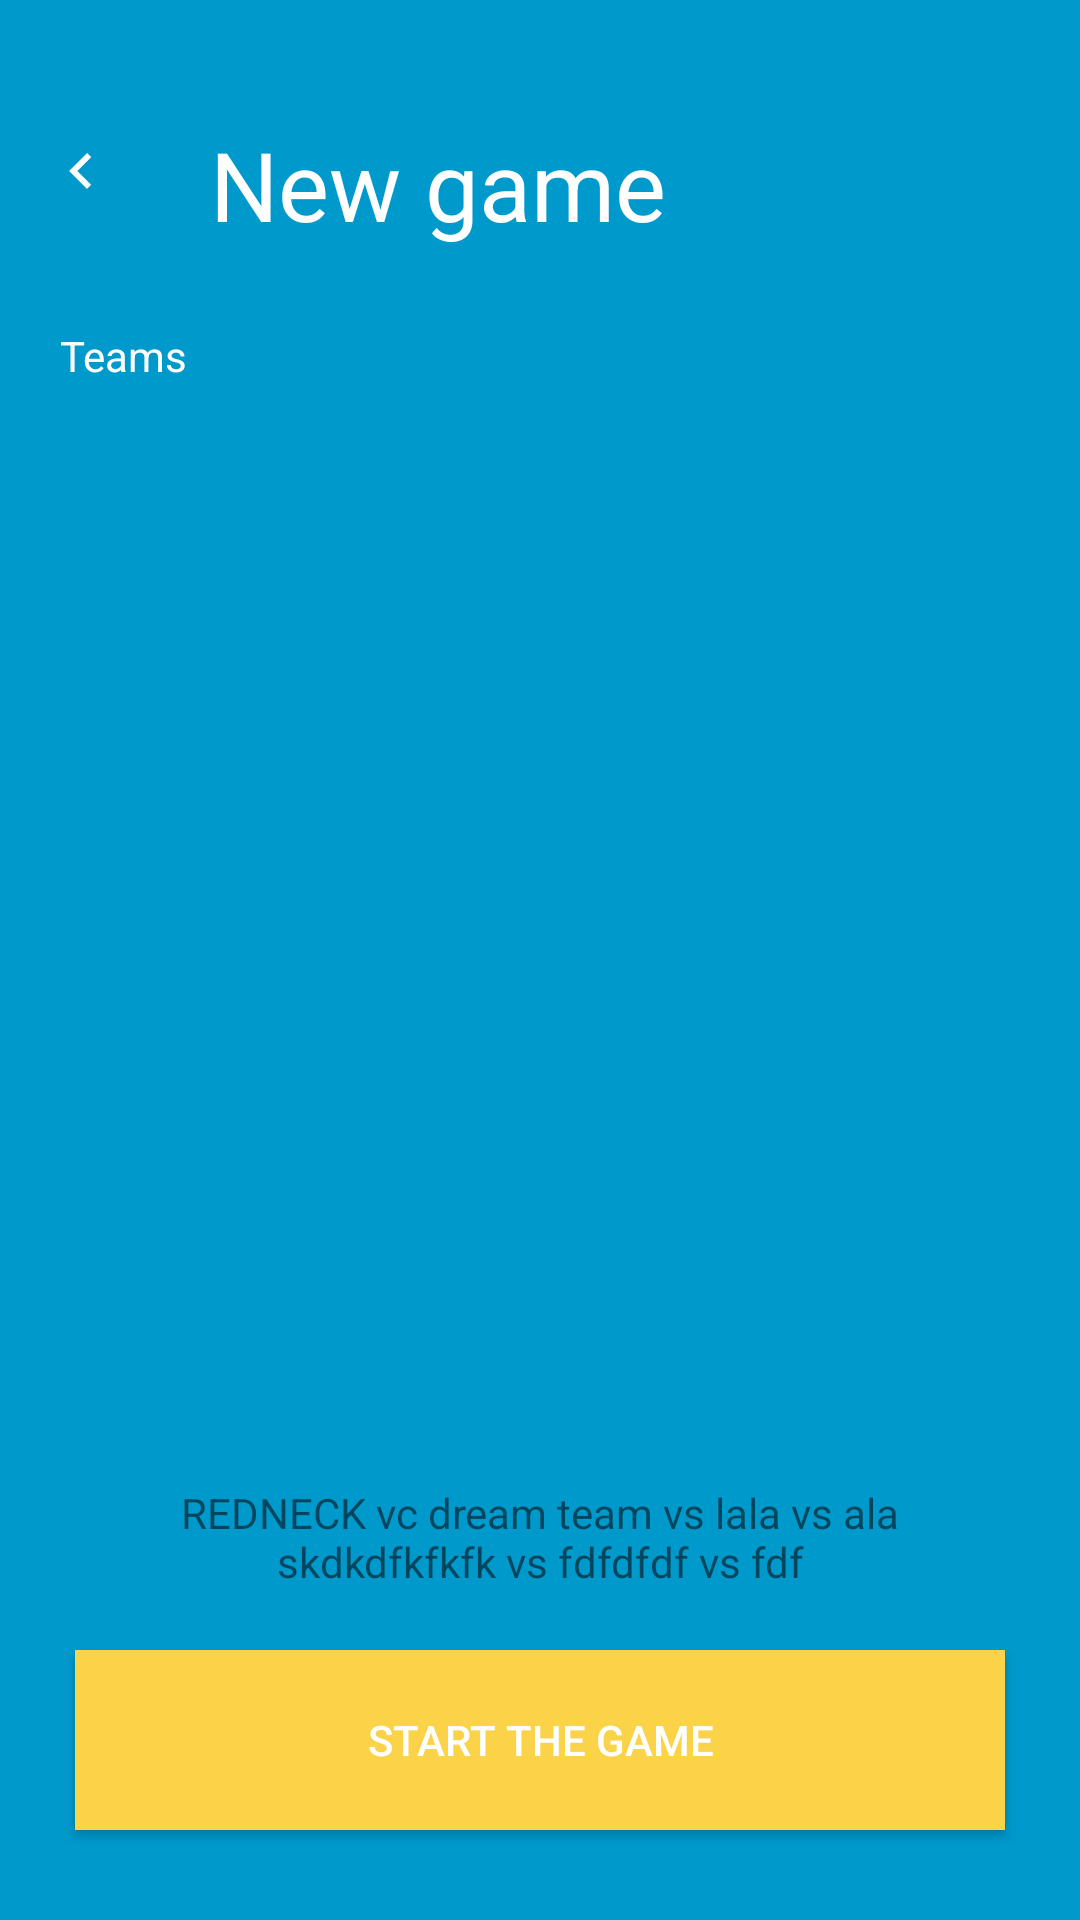

Icon bounding boxes for this 1080w x 1920h phone screenshot, format box=[x1, y1, x2, y2]:
back: box=[69, 153, 91, 189]
